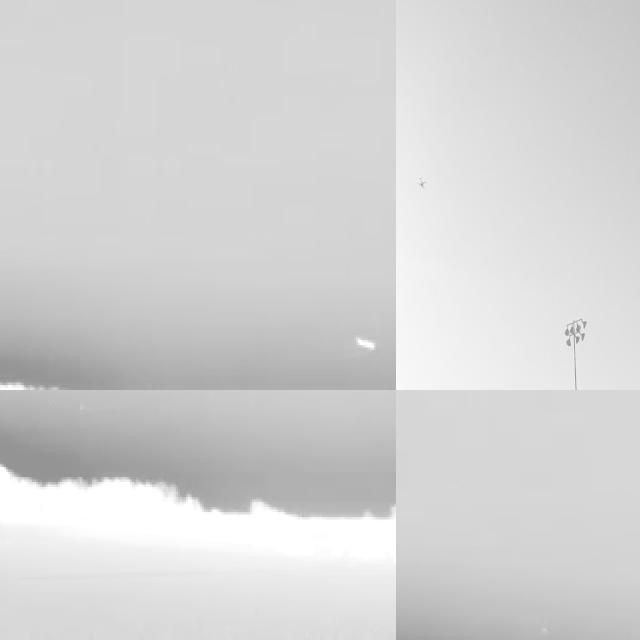0: (66, 395, 98, 427), (528, 616, 562, 640)
1: (344, 330, 392, 365)
drone: (414, 167, 429, 193)
